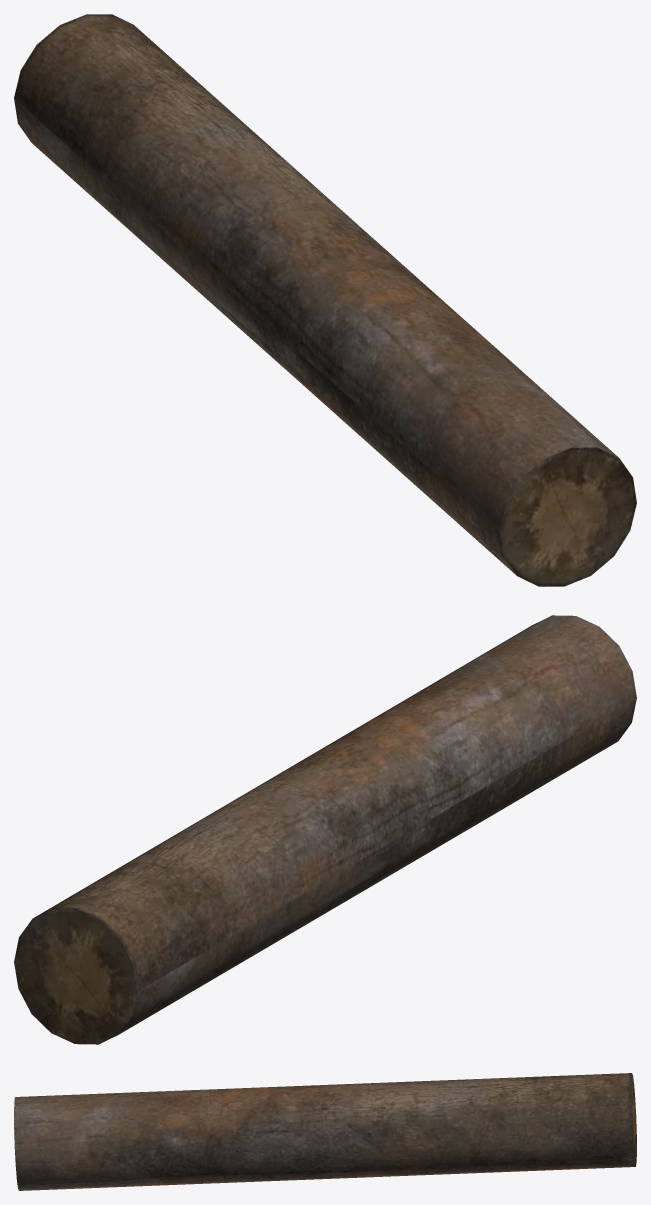
File: SupportWoodA.glb
3 views of the same model, one above another, from view 1: azimuth 30°, elevation 25°; view 2: azimuth 150°, elevation 25°; view 3: azimuth 270°, elevation 25° (orthographic). The views are drawn at different scales.
Visible parts, largest first — view 1: SupportWoodA; view 2: SupportWoodA; view 3: SupportWoodA.
Boxes of the visible parts, <box> form: SupportWoodA: <box>14,14,636,586</box>; SupportWoodA: <box>14,615,636,1044</box>; SupportWoodA: <box>14,1073,636,1190</box>.
Bounding box in the file's own units: 0.2056 × 0.2363 × 1.14.
1 material, 1 textured.
